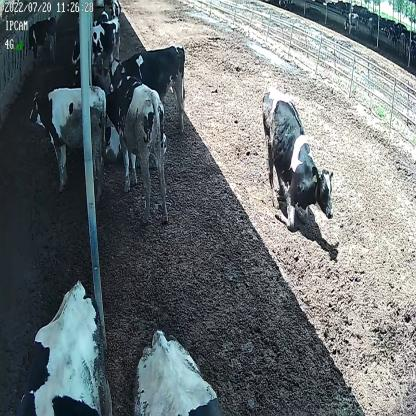cow: (259, 86, 335, 230), (106, 57, 170, 224), (30, 86, 107, 206), (120, 46, 189, 130), (72, 18, 121, 77), (27, 15, 58, 62)
